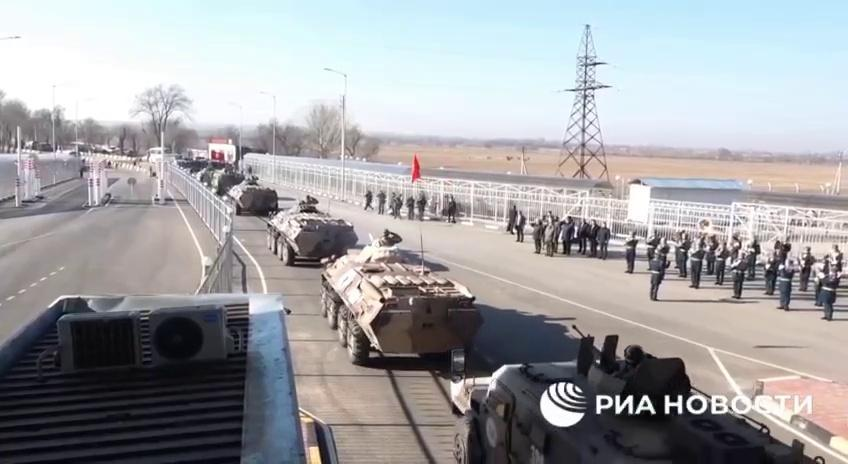armored_car: (451, 337, 830, 464)
person: (816, 268, 841, 322), (649, 252, 670, 302), (776, 258, 795, 312), (730, 252, 748, 299), (688, 243, 705, 289), (744, 235, 760, 282), (798, 245, 812, 294), (623, 232, 639, 274), (714, 242, 728, 286), (596, 222, 611, 260), (561, 218, 574, 256), (530, 218, 543, 254), (577, 217, 589, 255), (588, 219, 600, 257), (544, 221, 556, 257), (706, 232, 716, 275), (828, 244, 842, 274), (514, 210, 526, 243), (446, 196, 456, 223), (376, 190, 386, 215), (363, 190, 374, 210), (396, 193, 404, 220), (407, 194, 415, 220)
tank: (320, 233, 483, 365), (266, 195, 358, 265), (224, 174, 280, 216)
